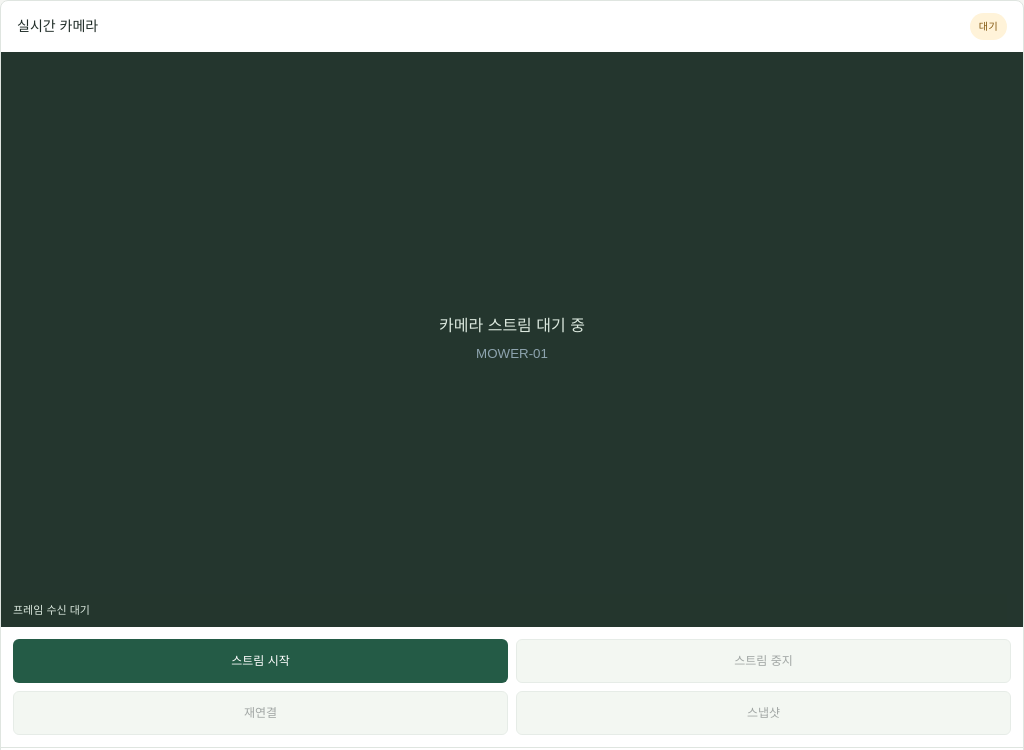
Test: 연결 중에도 취소할 수 있다
Click the button "스트림 시작". click: (260, 661)
box: left=13, top=639, right=508, bottom=683
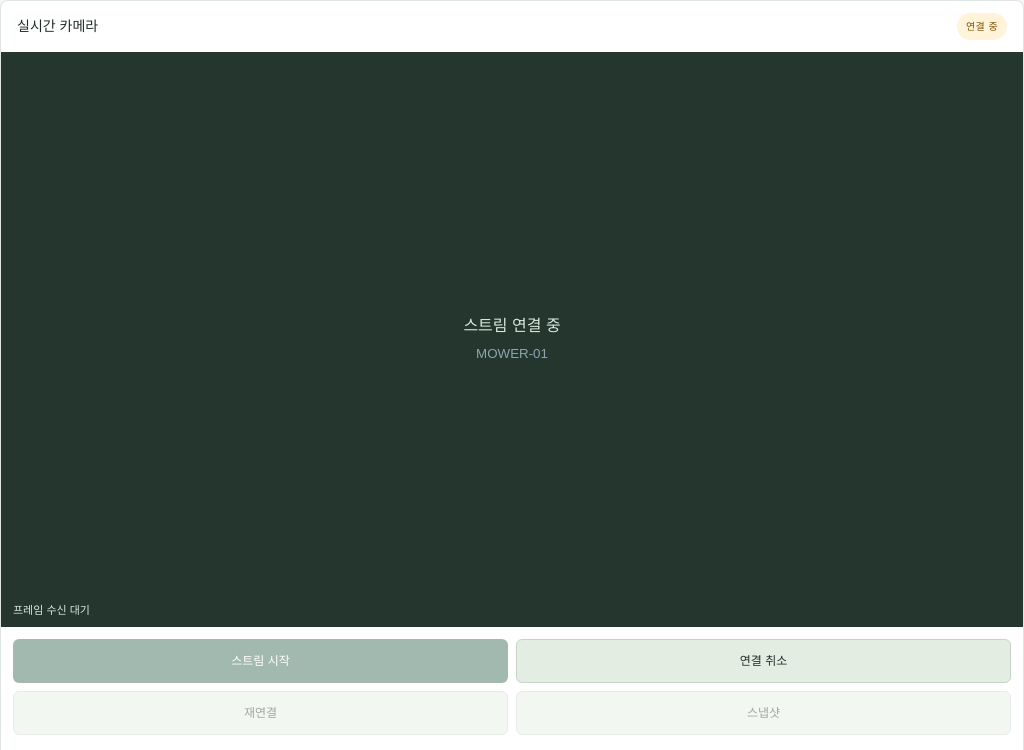
Expected: the button "연결 취소" is enabled
Click the button "연결 취소". click: (764, 661)
box: left=516, top=639, right=1011, bottom=683
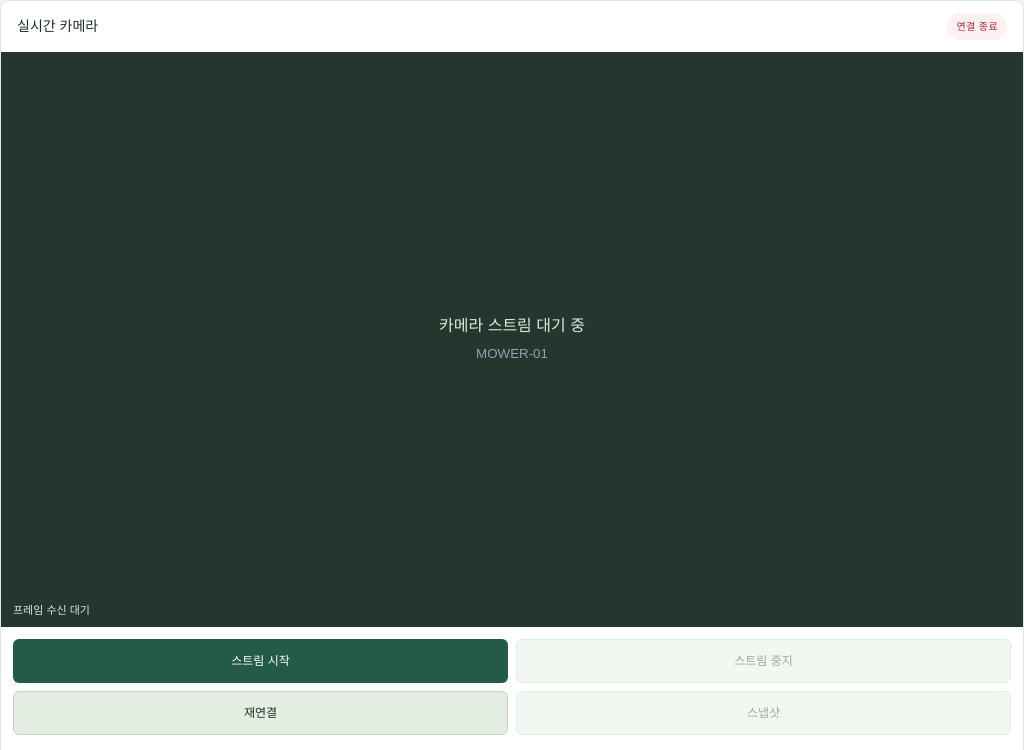
Expected: the button "스트림 시작" is enabled, left=13, top=639, right=508, bottom=683
